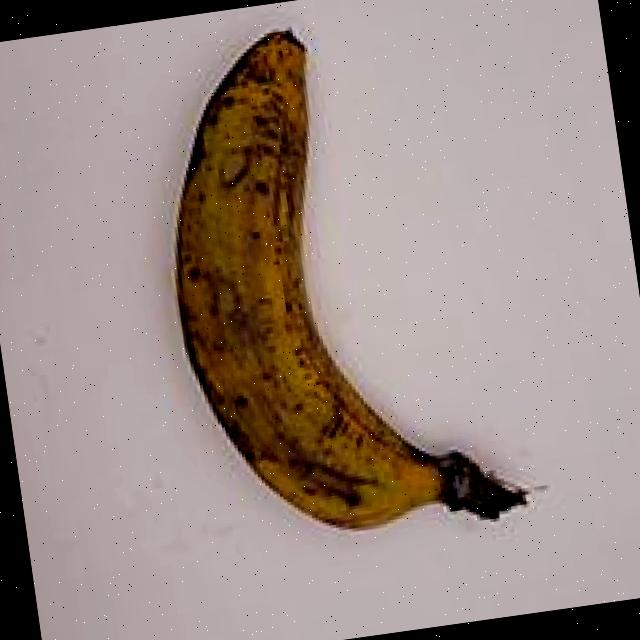Overripe: (85, 0, 576, 597)
